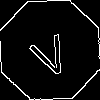V: (25, 25, 74, 80)
